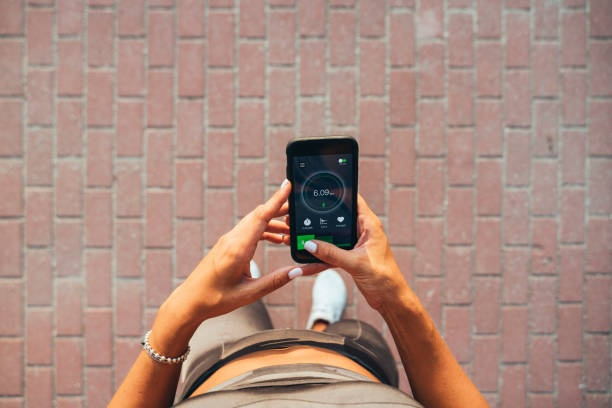phone: (285, 134, 361, 261)
